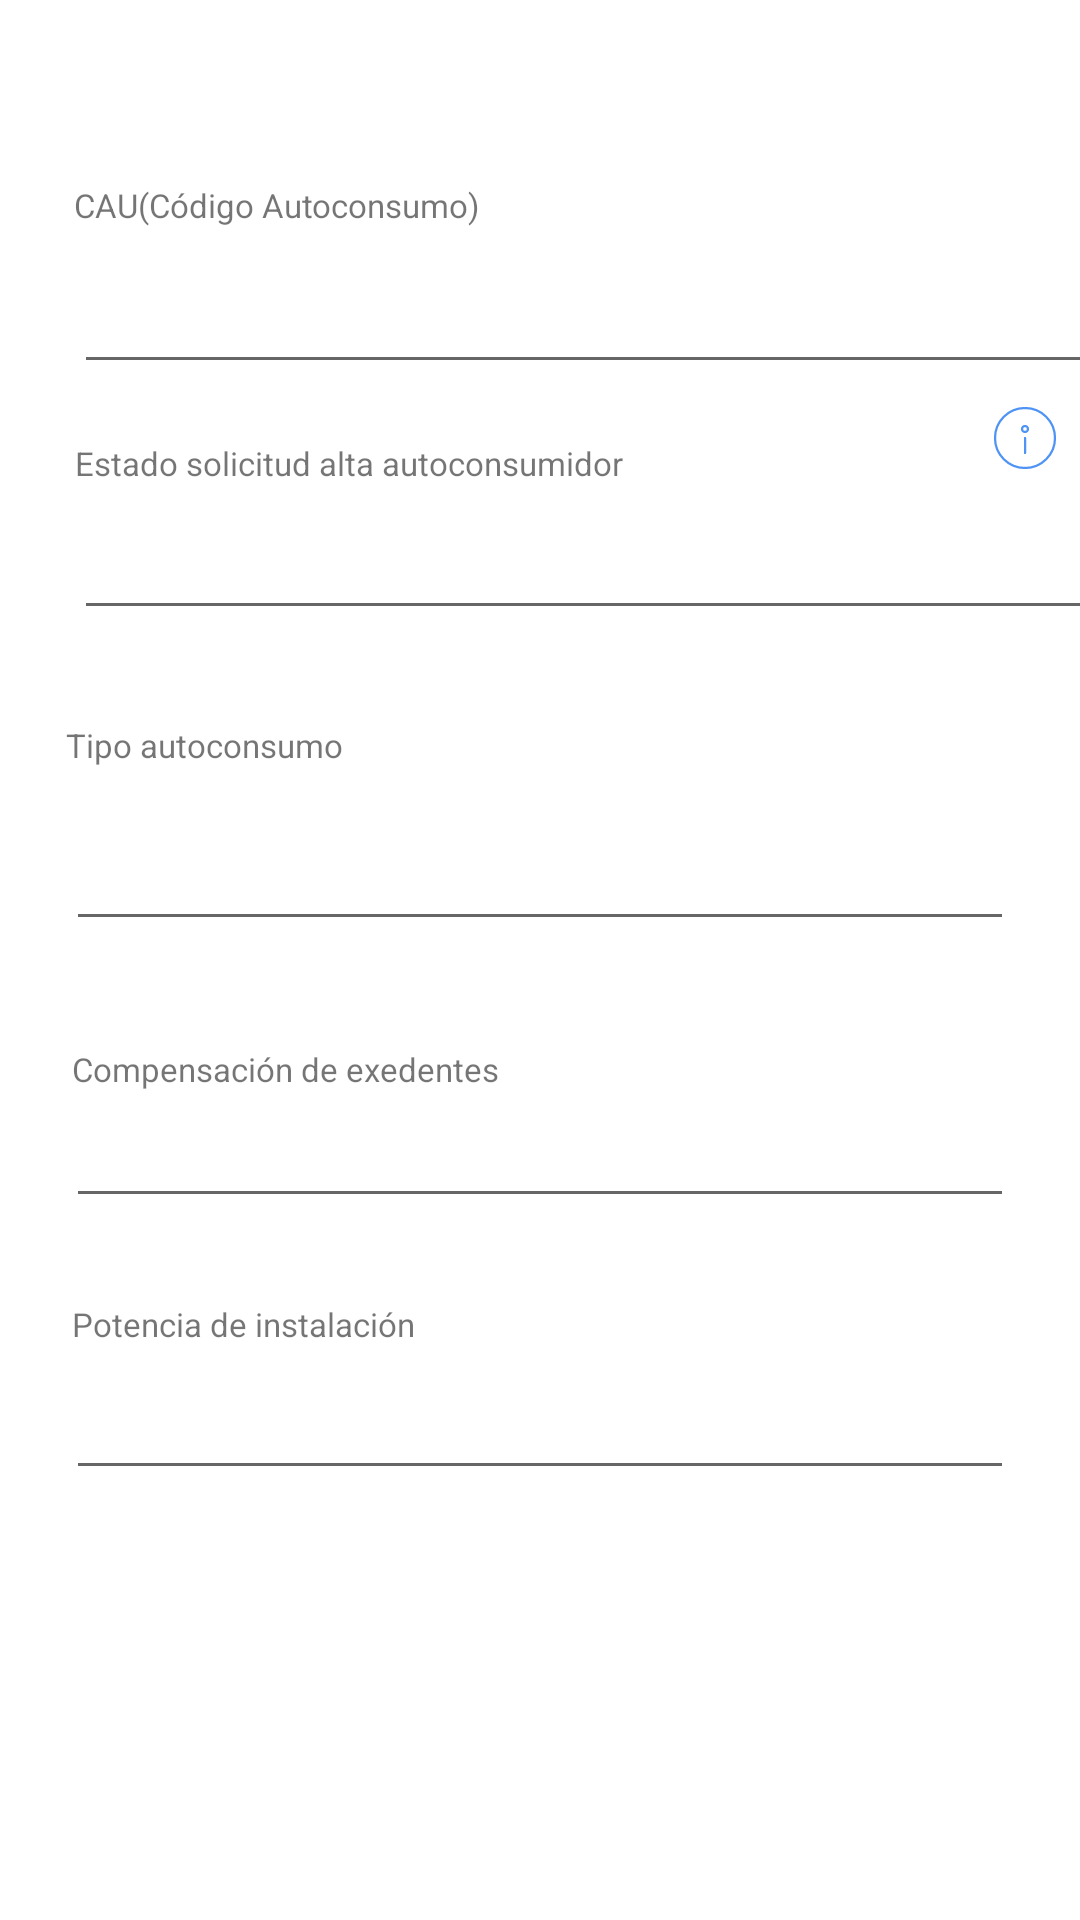

Where to tap for icons on this 1080x1920 app screen, as point (x, y):
infoicon azul: point (1025, 438)
